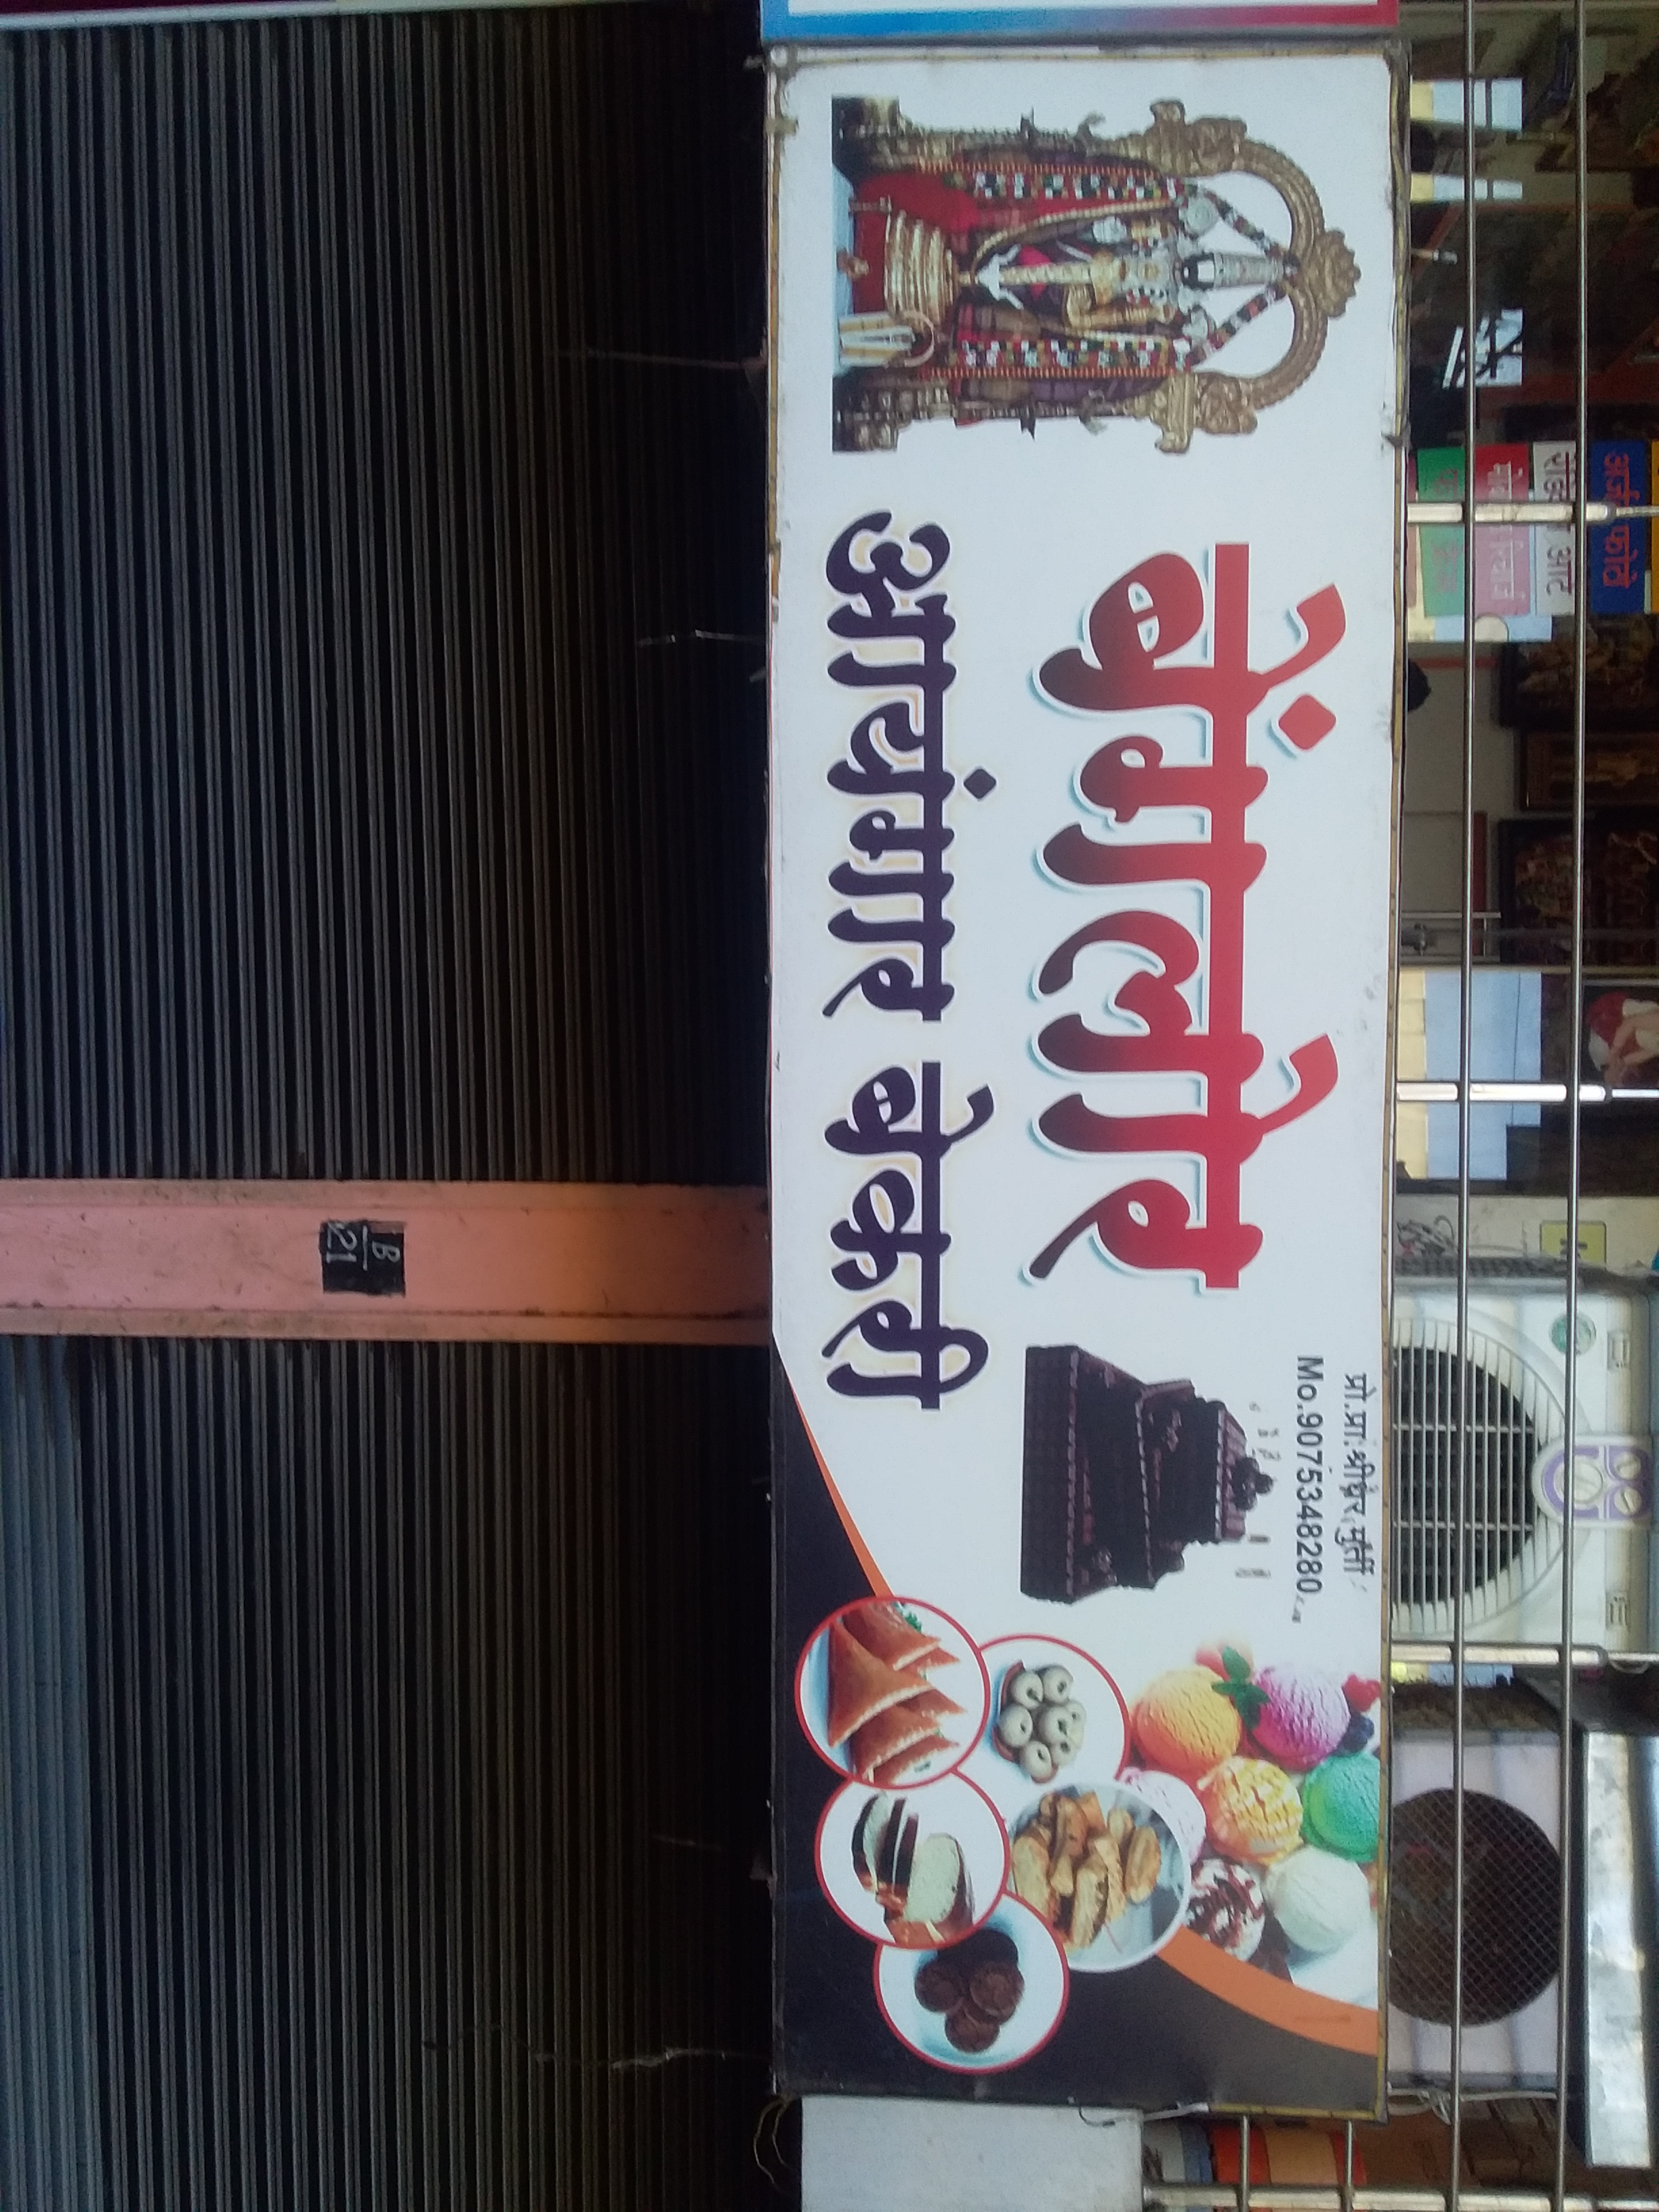text: (765, 12, 1415, 2120)
